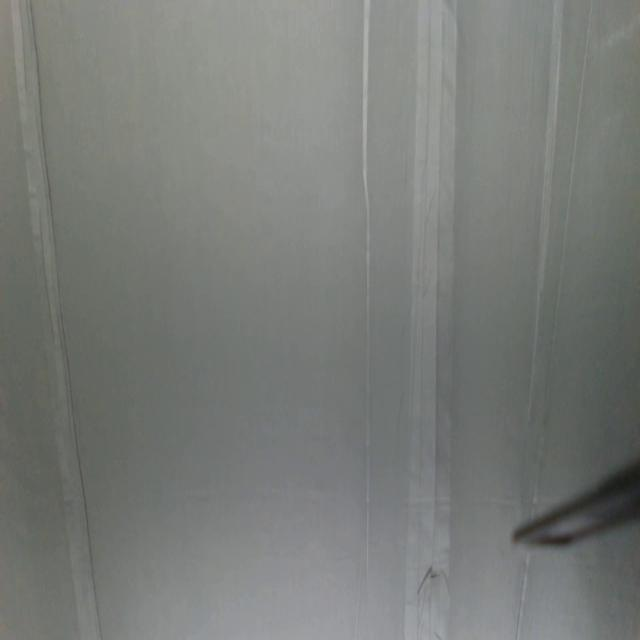crease: (10, 0, 104, 640), (525, 0, 595, 503), (403, 0, 450, 632), (357, 0, 375, 577), (512, 548, 534, 640)
